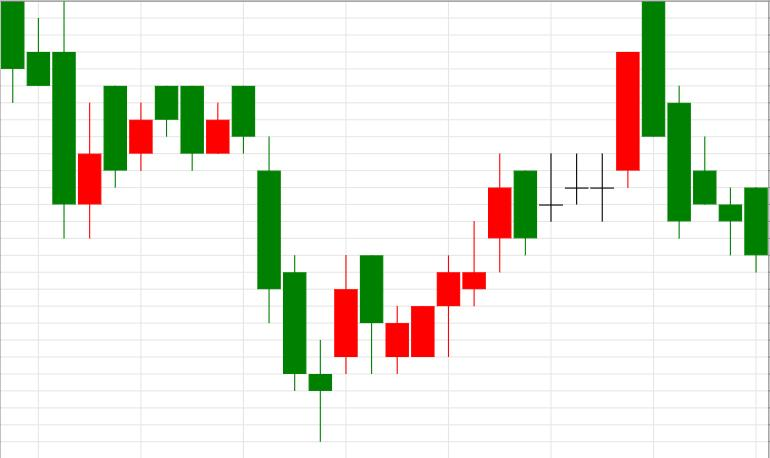morning_star_rise: (232, 86, 358, 442)
